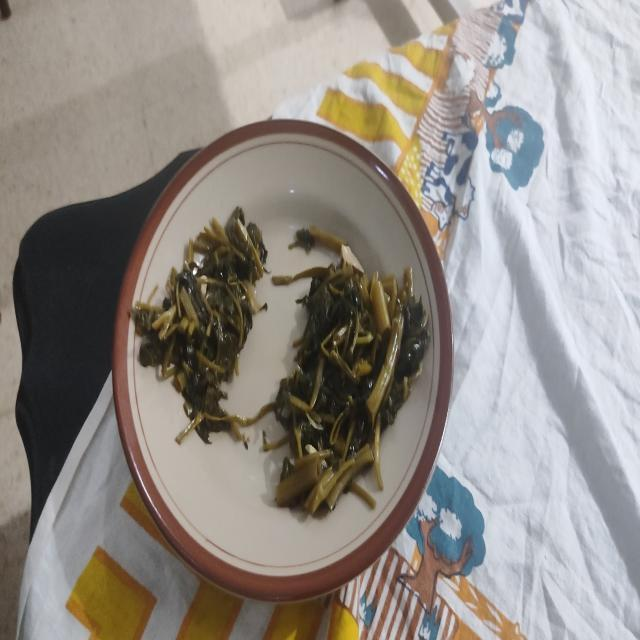tumis_kangkung: (272, 227, 429, 514), (132, 206, 268, 448)
